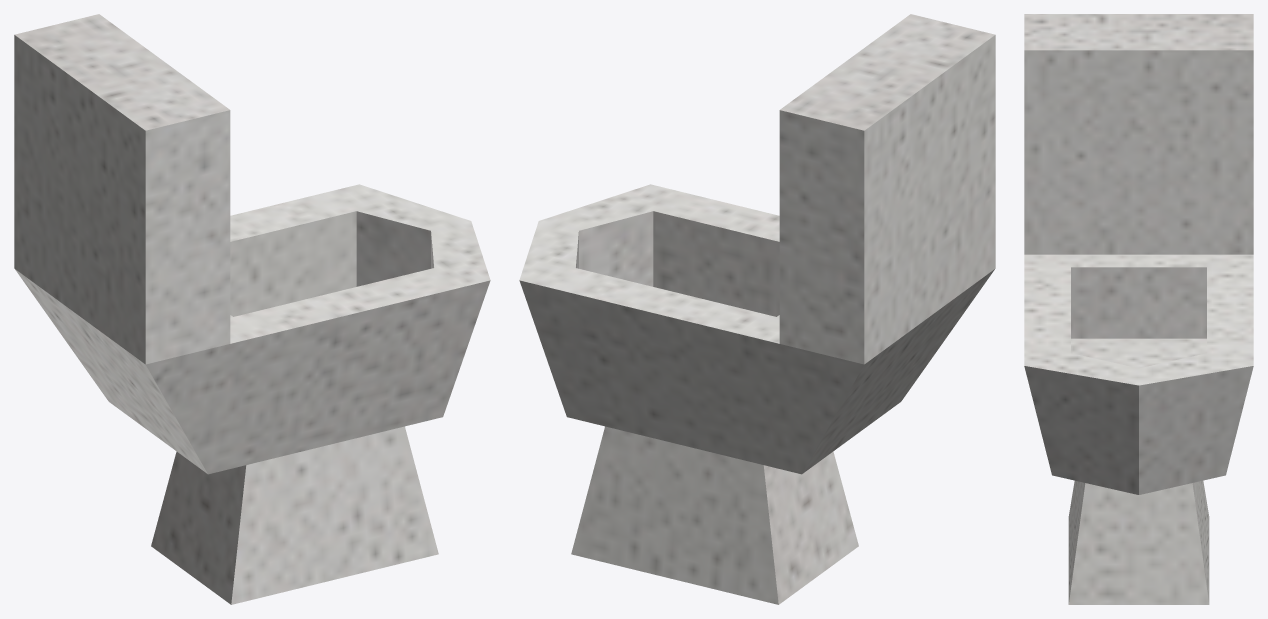
The model's file is toilet.fbx.
3 views of the same model, side by side, from view 1: azimuth 30°, elevation 25°; view 2: azimuth 150°, elevation 25°; view 3: azimuth 270°, elevation 25° (orthographic). The views are drawn at different scales.
Parts seen in each view (by area): view 1: Cube.009; view 2: Cube.009; view 3: Cube.009.
Boxes of the visible parts, x1=… form: Cube.009: x1=14, y1=14, x2=490, y2=604; Cube.009: x1=519, y1=14, x2=995, y2=604; Cube.009: x1=1024, y1=14, x2=1253, y2=604.
Size of the model in its own units: 563 by 715 by 327.
